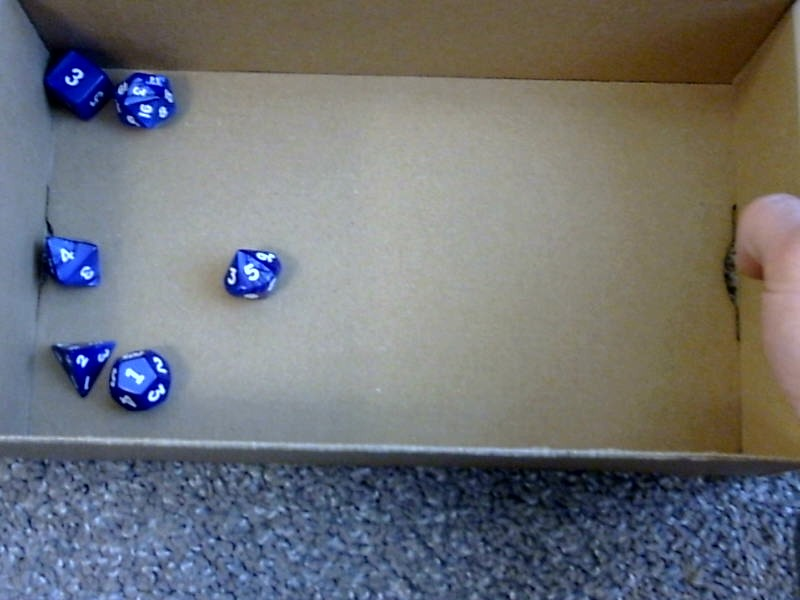d10 5: (216, 237, 283, 301)
d12 1: (112, 340, 171, 412)
d20 3: (112, 66, 178, 131)
d4 2: (45, 338, 112, 399)
d6 3: (39, 43, 115, 127)
d8 4: (37, 230, 103, 292)
